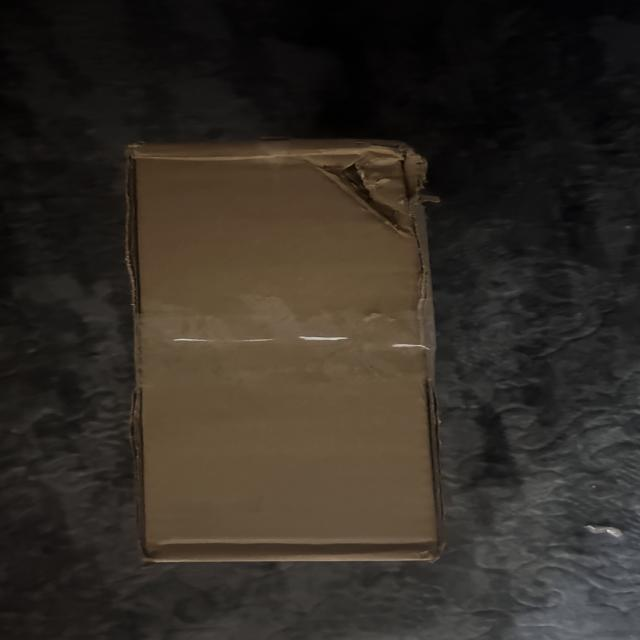damaged: (119, 133, 472, 582), (290, 135, 446, 253)
